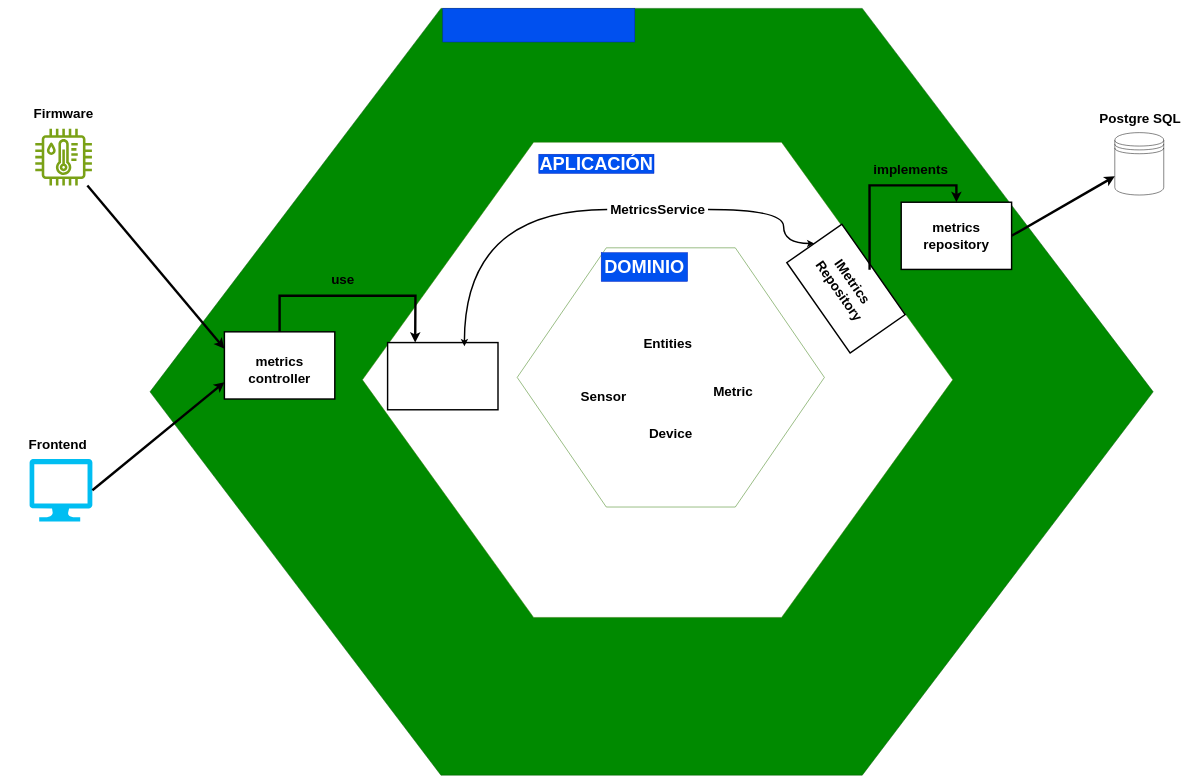
Image size: 1198x784. Some labels were removed from this diagram. The centre of each missing label's shape, as x and y in pixels:
"IMetrics Service" belongs at [442,376].
"INFRAESTRUCTURA" belongs at [538,25].
